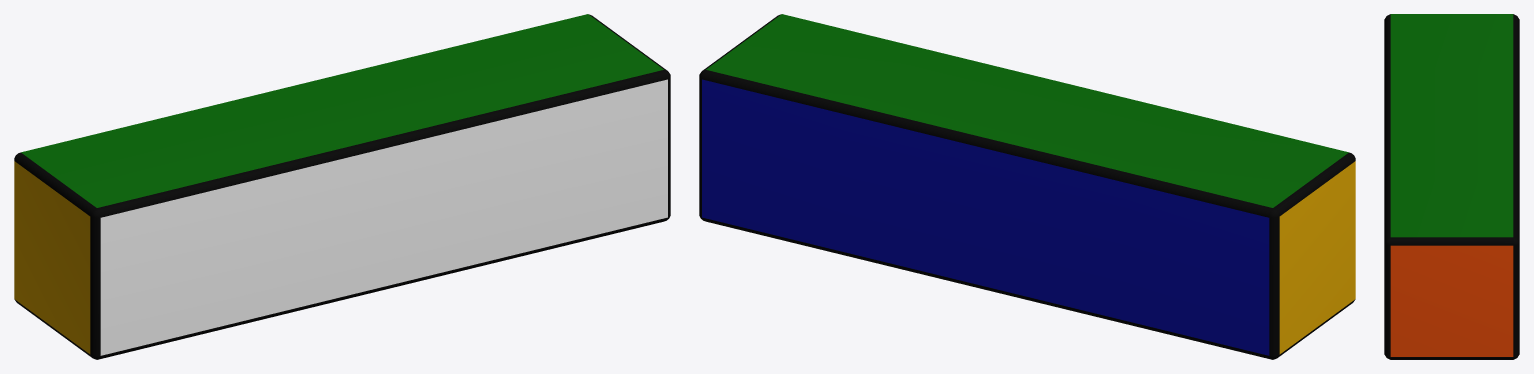
3 renders of one model, left to right at view 1: azimuth 30°, elevation 25°; view 2: azimuth 150°, elevation 25°; view 3: azimuth 270°, elevation 25°, orthographic. The views are drawn at different scales.
Parts seen in each view (by area): view 1: 14; view 2: 14; view 3: 14.
Part boxes in pixels (x1=…): 14: x1=14, y1=14, x2=670, y2=359; 14: x1=699, y1=14, x2=1355, y2=359; 14: x1=1384, y1=14, x2=1519, y2=359.
Bounding box in the file's own units: 40 × 10 × 10.
